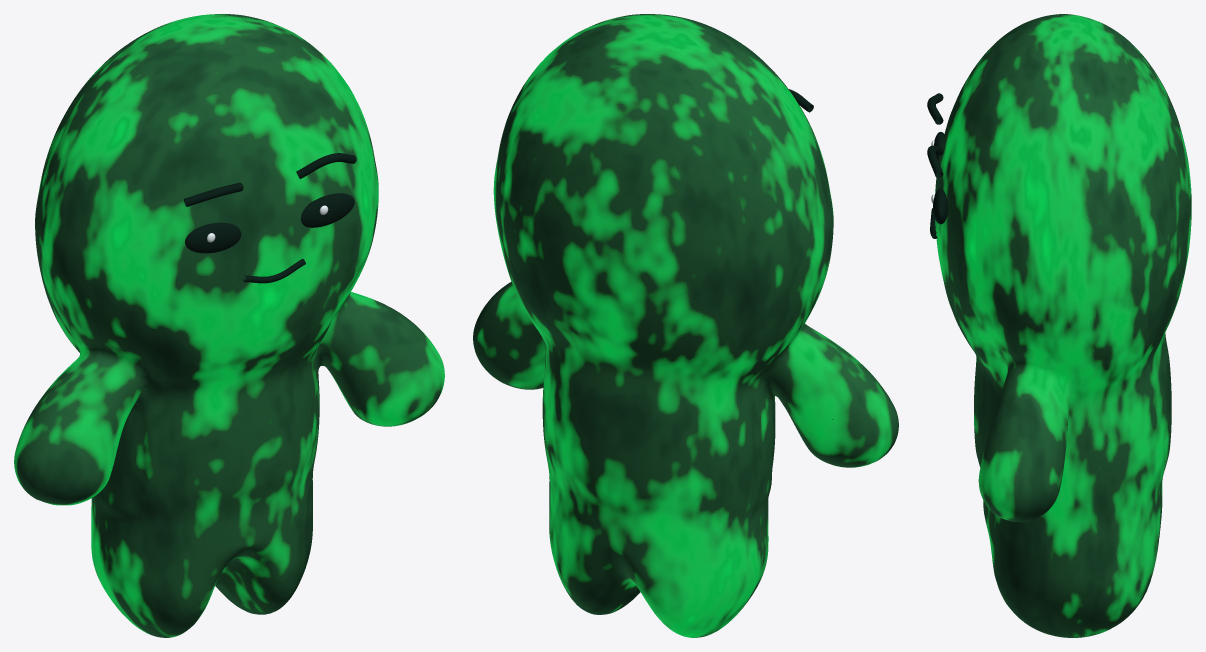
File: SaJu_Jade_Approved_Static_Material.glb
3 views of the same model, side by side, from view 1: azimuth 30°, elevation 25°; view 2: azimuth 150°, elevation 25°; view 3: azimuth 270°, elevation 25° (orthographic). The views are drawn at different scales.
Visible parts, largest first — view 1: B candidate5 reconstructed | seamless body and mittens, B | almond gaze -1, B | almond gaze 1; view 2: B candidate5 reconstructed | seamless body and mittens; view 3: B candidate5 reconstructed | seamless body and mittens, B | almond gaze 1.
Boxes of the visible parts, box(x1,y1,x2,y2) form: B candidate5 reconstructed | seamless body and mittens: box(14, 14, 444, 637); B | almond gaze -1: box(185, 222, 241, 253); B | almond gaze 1: box(301, 193, 354, 227); B candidate5 reconstructed | seamless body and mittens: box(473, 14, 898, 637); B candidate5 reconstructed | seamless body and mittens: box(935, 14, 1191, 637); B | almond gaze 1: box(933, 188, 948, 224).
Size of the model in its own units: 1.75 by 2.38 by 0.9795.
Materials: 3 (1 with a texture image).
